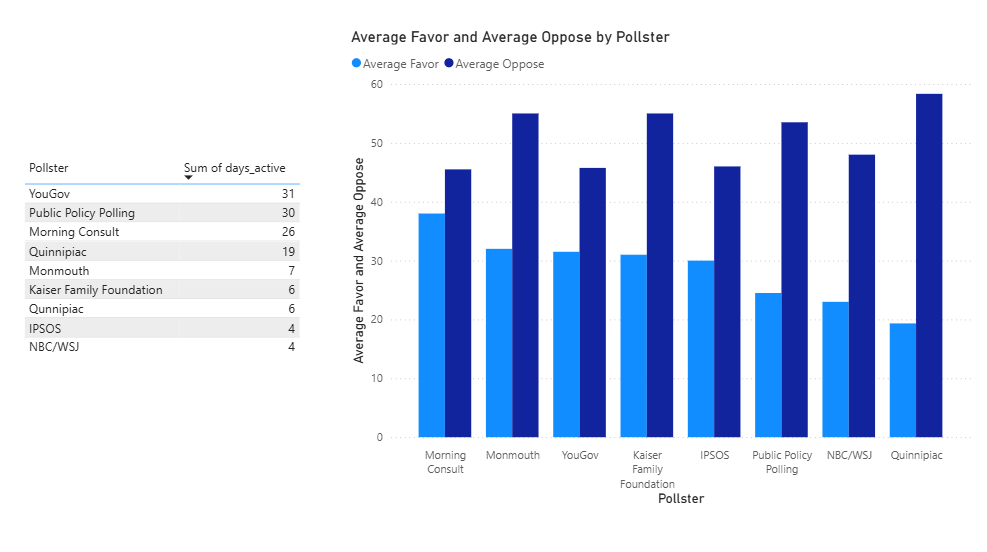

The page's visual inventory and layout, read from the dashboard file:
{"tool":"powerbi","page":{"name":"Page 2","canvas":[1280,720],"ordinal":1},"visuals":[{"type":"tableEx","fields":{"Values":["v_AHCA_PollsterSummary.Pollster","Sum(v_AHCA_PollsterSummary.days_active)"]},"box":[142.7,237.4,323.8,242.9],"z":0},{"type":"clusteredColumnChart","fields":{"Category":["ahca_polls.Pollster"],"Y":["ahca_polls.Average Favor","ahca_polls.Average Oppose"]},"box":[502.2,98.8,690.2,531],"z":1000}]}

Visuals, with their boxes in screenshot pixels (x1, y1, x2, y2), scaled from the page's 1280x720 canvas onto the 987x552 screenshot:
tableEx - v_AHCA_PollsterSummary.Pollster x Sum(v_AHCA_PollsterSummary.days_active): bbox=(110, 182, 360, 368)
clusteredColumnChart - ahca_polls.Pollster x ahca_polls.Average Favor: bbox=(387, 76, 919, 483)
